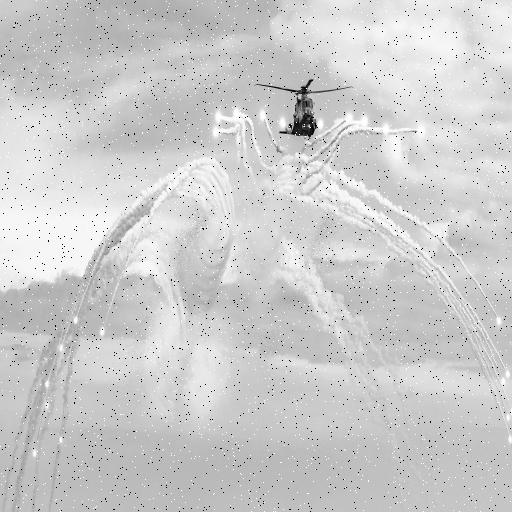helicopter: (256, 62, 356, 143)
